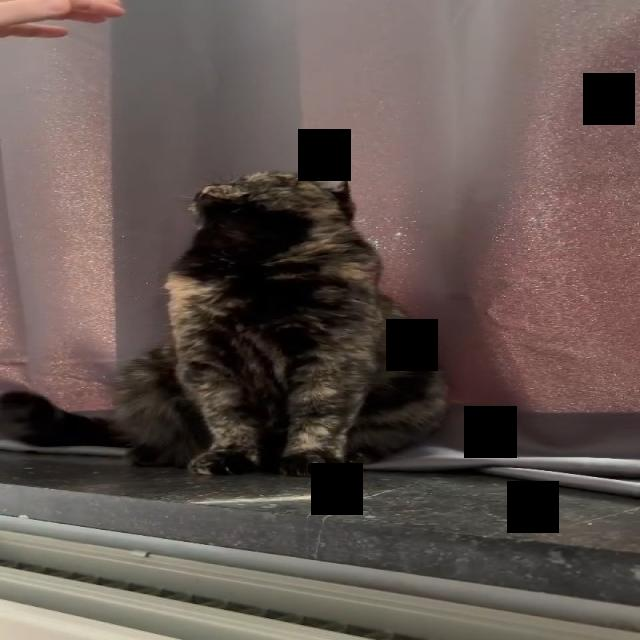authorized: (108, 162, 451, 477)
